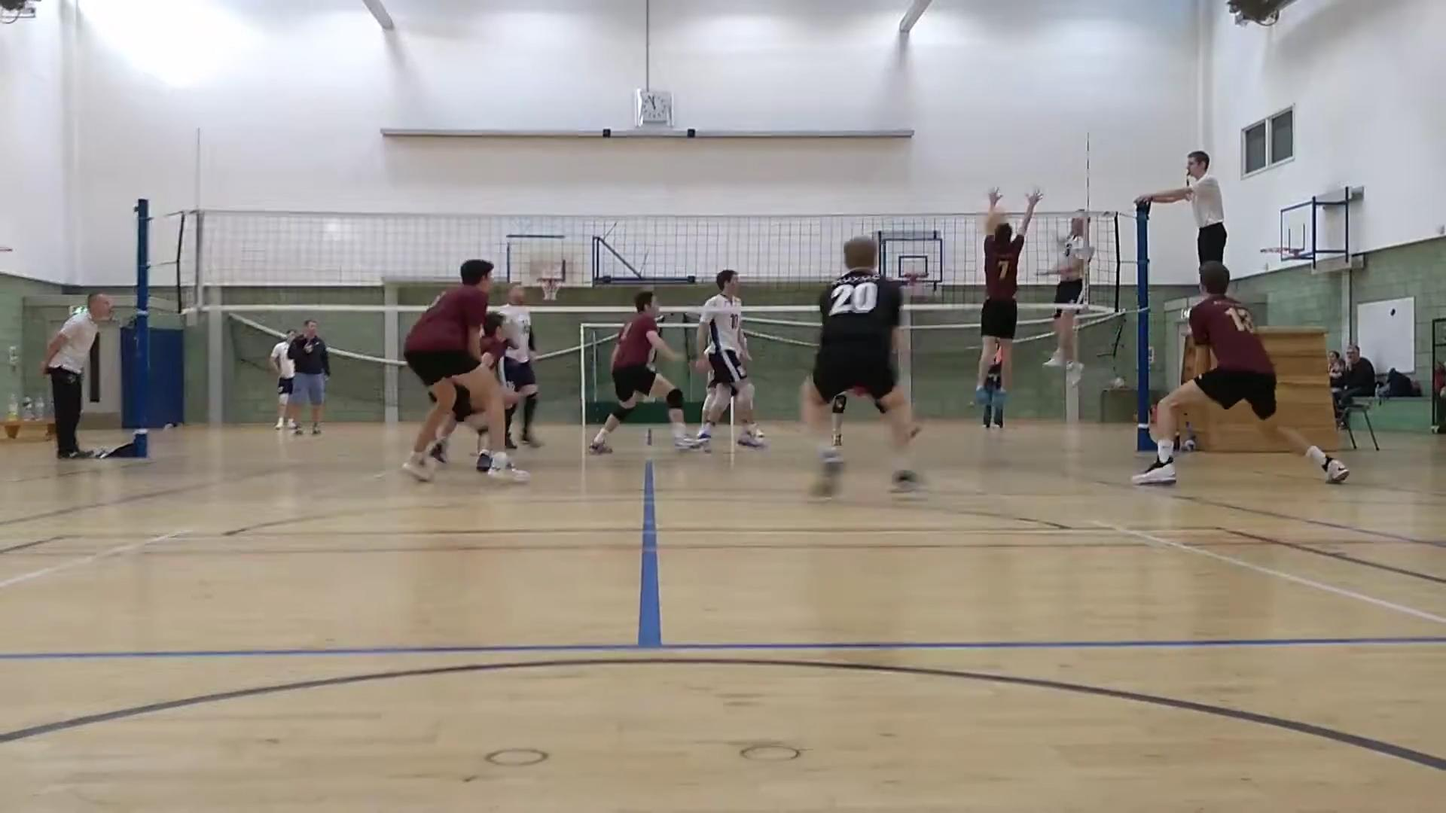attacco: (1038, 190, 1096, 383)
muro: (976, 187, 1037, 399)
